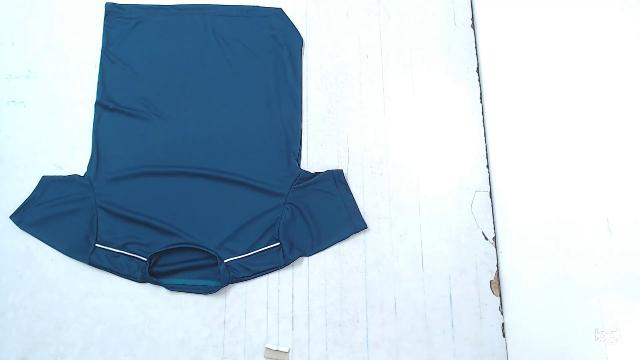new-garment: (10, 3, 366, 294)
